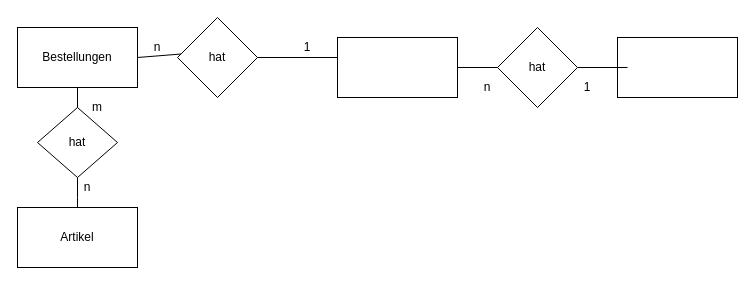
The diagram is 755 pixels wide and 285 high, and some of its shapes have lost their labels. The shapes that lost their labels are listed below. From the top down, each one's box as (x1, y1, x2, y2) in pixels, then its label:
(336, 36, 458, 98): Kunde
(616, 36, 738, 98): Ansprechpartner
